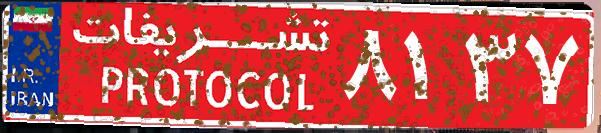1: (400, 20, 460, 115)
3: (460, 20, 520, 115)
7: (520, 20, 580, 115)
8: (340, 20, 400, 115)
تشریفات: (60, 8, 340, 125)
